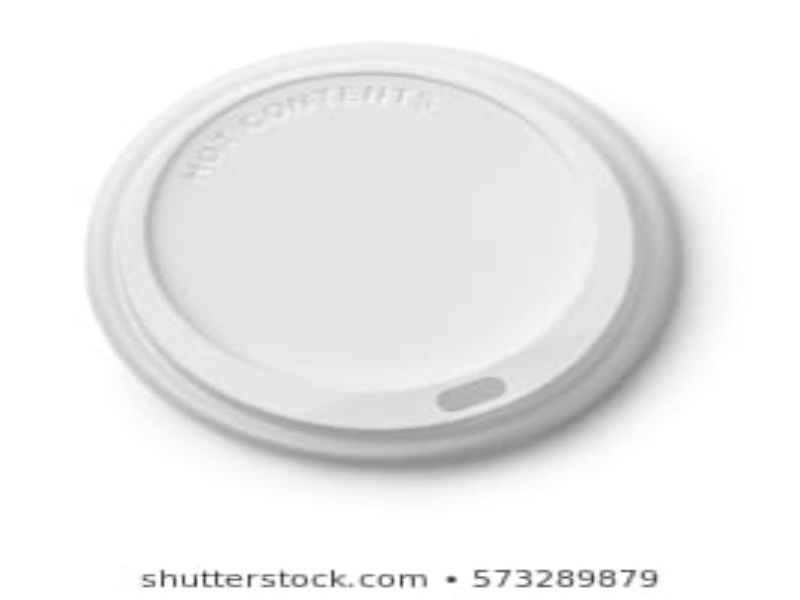coffee-lid: (81, 39, 688, 468)
